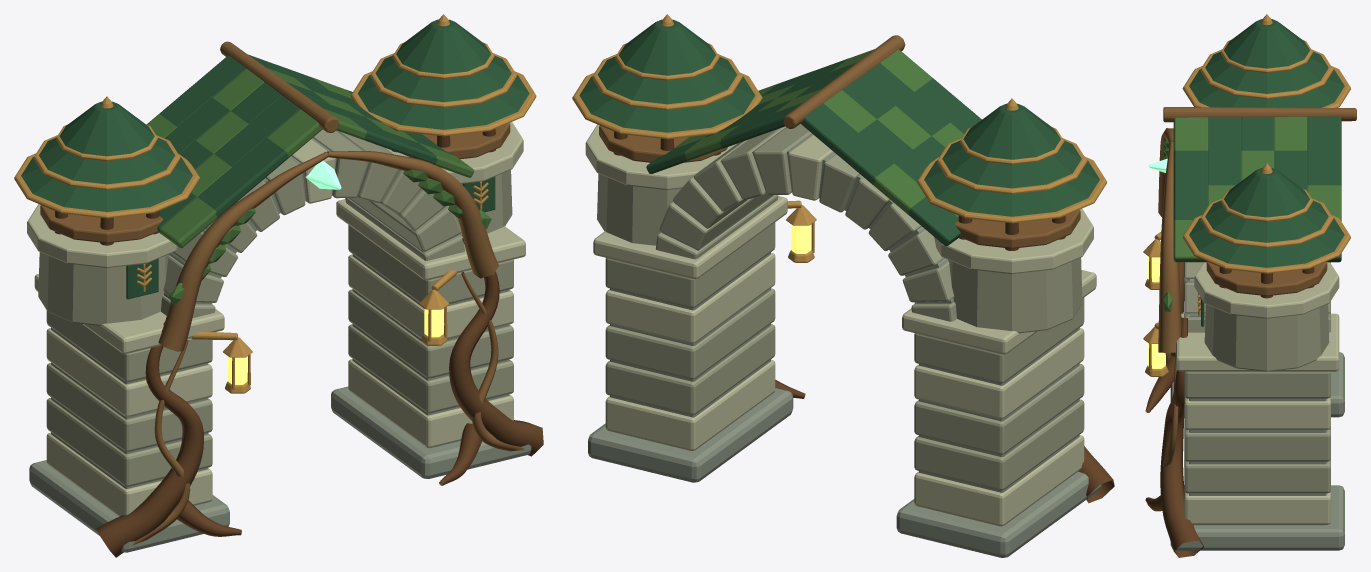
File: forest-gate.glb
3 renders of one model, left to right at view 1: azimuth 30°, elevation 25°; view 2: azimuth 150°, elevation 25°; view 3: azimuth 270°, elevation 25°, orthographic. The views are drawn at different scales.
Visible parts, largest first — view 1: Warm limestone / gate surface, Deep green shingles / gate surface, Limestone cap / gate surface, Oak ridge / gate surface, Old oak roots / gate surface, Stone recess / gate surface, Aged brass / gate surface, Leaf tile edge / gate surface, Amber lantern / gate surface, Verdant core / gate surface; view 2: Warm limestone / gate surface, Limestone cap / gate surface, Deep green shingles / gate surface, Stone recess / gate surface, Aged brass / gate surface, Leaf tile edge / gate surface, Oak ridge / gate surface, Old oak roots / gate surface; view 3: Deep green shingles / gate surface, Warm limestone / gate surface, Limestone cap / gate surface, Oak ridge / gate surface, Stone recess / gate surface, Aged brass / gate surface, Leaf tile edge / gate surface, Old oak roots / gate surface, Amber lantern / gate surface.
Part boxes in pixels (box(x1,y1,x2,y2)): Warm limestone / gate surface: box(38, 129, 513, 486); Deep green shingles / gate surface: box(21, 19, 529, 299); Limestone cap / gate surface: box(27, 122, 525, 516); Oak ridge / gate surface: box(40, 41, 524, 545); Old oak roots / gate surface: box(54, 129, 543, 557); Stone recess / gate surface: box(29, 131, 531, 552); Aged brass / gate surface: box(14, 14, 536, 393); Leaf tile edge / gate surface: box(146, 68, 491, 304); Amber lantern / gate surface: box(228, 308, 444, 384); Verdant core / gate surface: box(305, 160, 341, 189); Warm limestone / gate surface: box(597, 124, 1084, 490); Limestone cap / gate surface: box(585, 124, 1096, 526); Deep green shingles / gate surface: box(579, 19, 1099, 246); Stone recess / gate surface: box(588, 127, 1101, 557); Aged brass / gate surface: box(572, 14, 1106, 262); Leaf tile edge / gate surface: box(674, 49, 963, 217); Oak ridge / gate surface: box(599, 35, 1080, 248); Old oak roots / gate surface: box(614, 131, 1114, 503); Deep green shingles / gate surface: box(1173, 19, 1344, 326); Warm limestone / gate surface: box(1184, 262, 1330, 493); Limestone cap / gate surface: box(1176, 262, 1339, 524); Oak ridge / gate surface: box(1158, 107, 1356, 466); Stone recess / gate surface: box(1170, 279, 1344, 550); Aged brass / gate surface: box(1143, 14, 1350, 376); Leaf tile edge / gate surface: box(1163, 116, 1341, 311); Old oak roots / gate surface: box(1145, 262, 1314, 557); Amber lantern / gate surface: box(1147, 256, 1165, 368).
Size of the model in its own units: 5.68 by 4.54 by 2.33.
